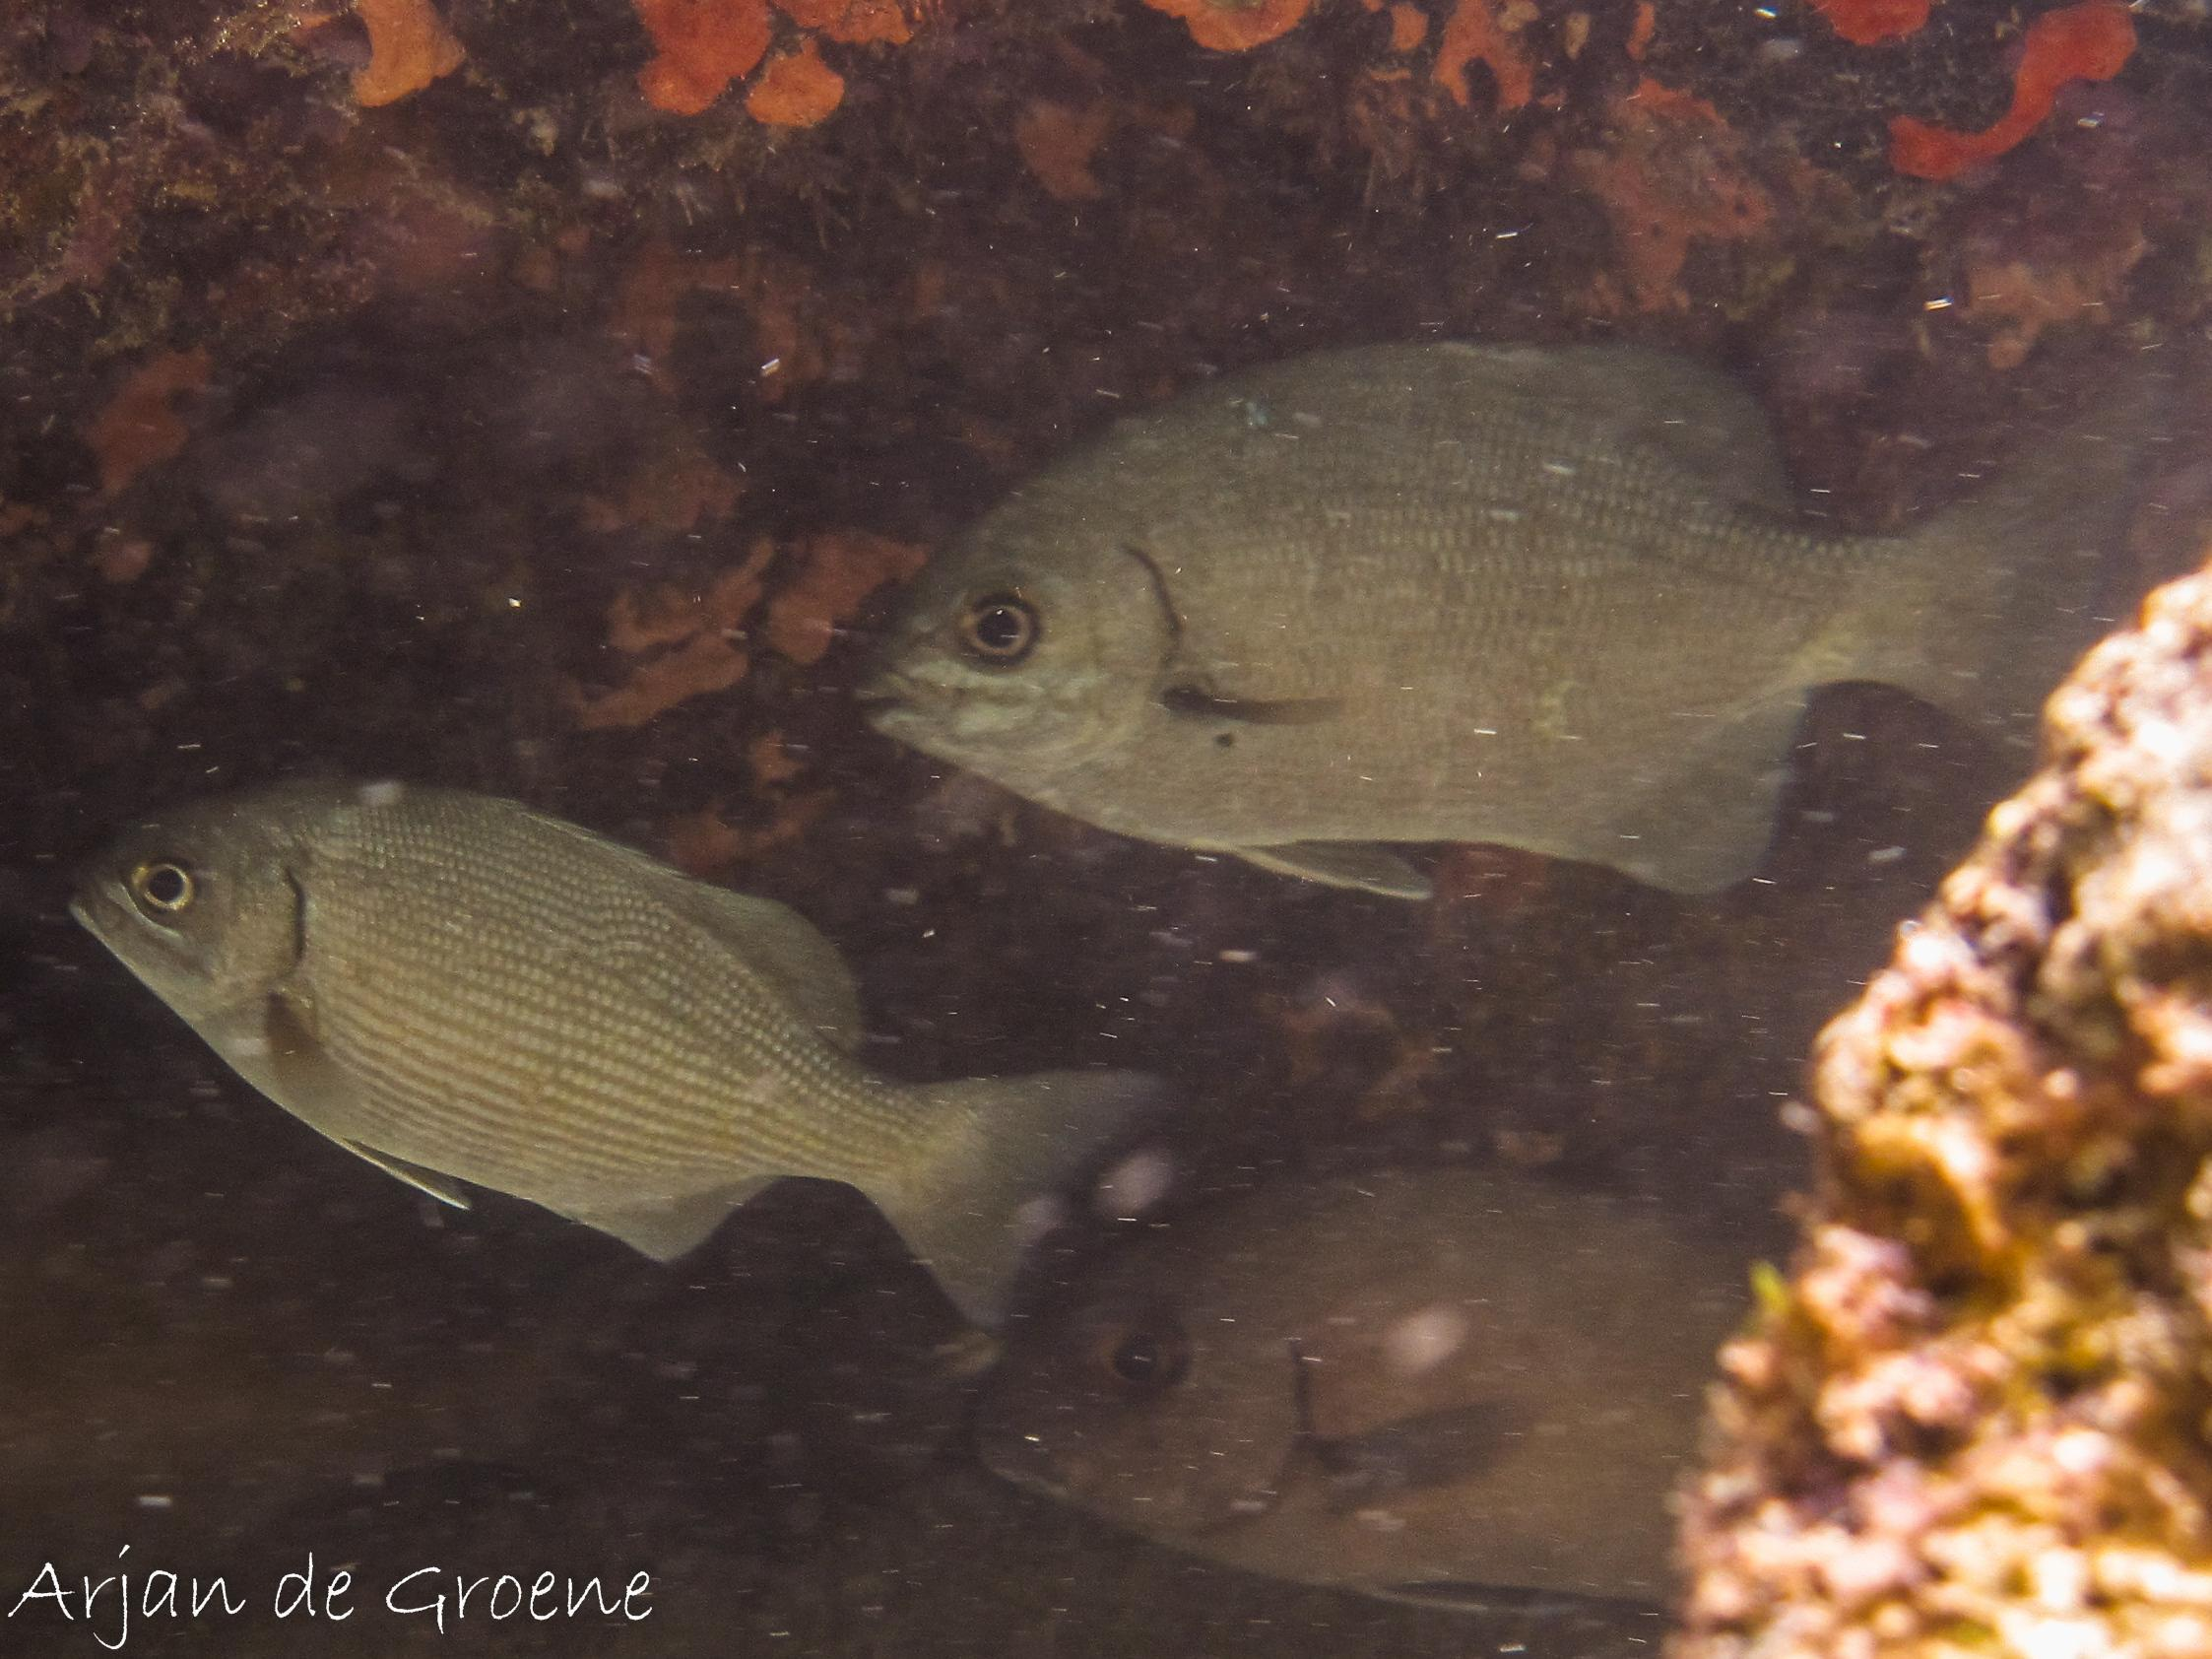Fish: (805, 284, 2212, 945), (14, 775, 1216, 1375)
